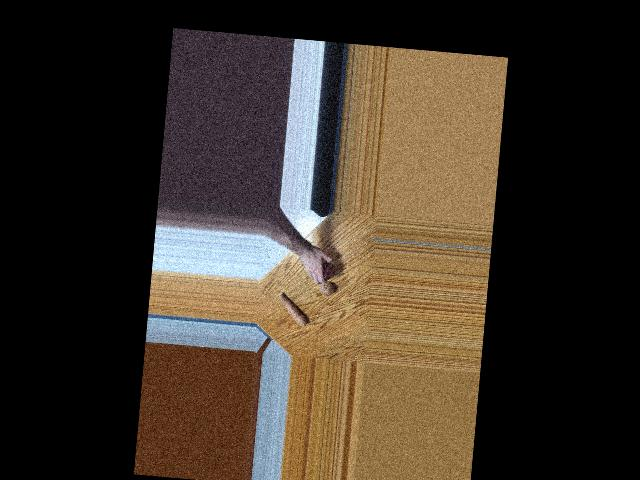onion: (318, 264, 334, 280)
